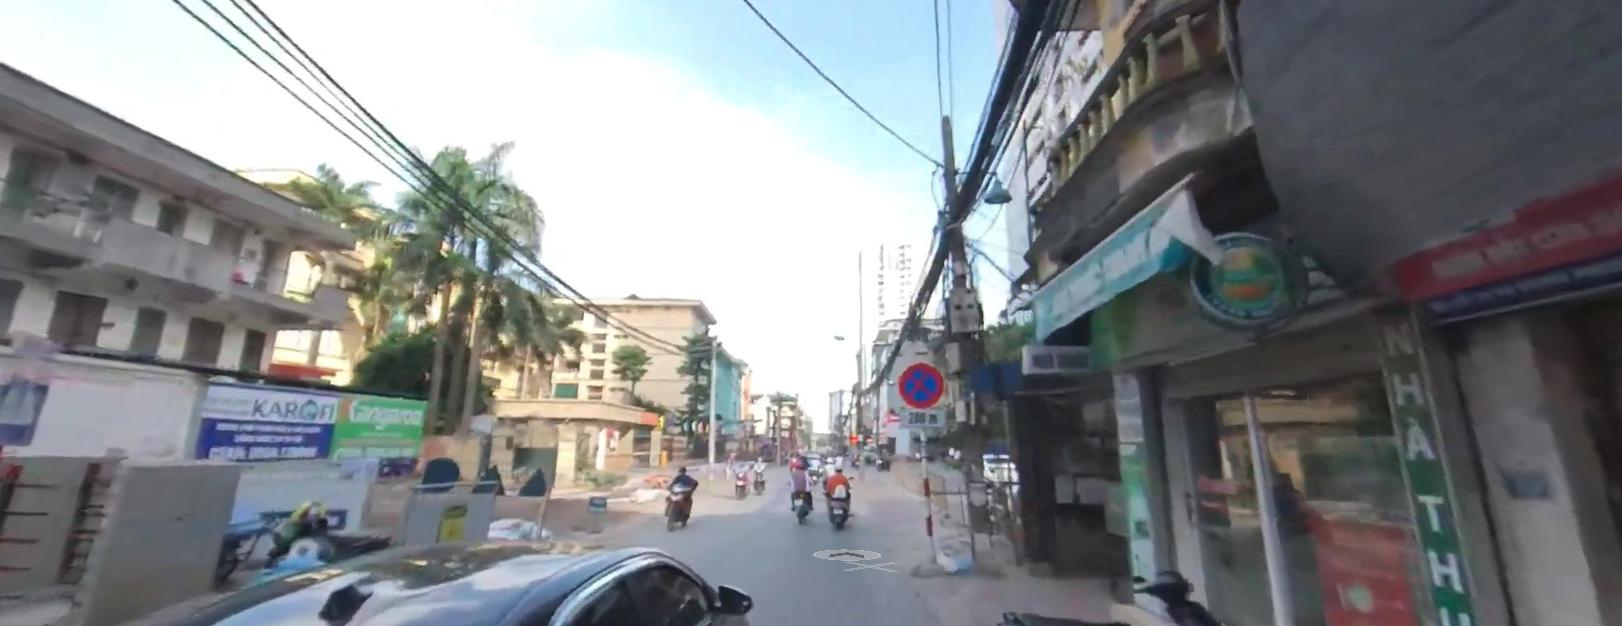Cam dung va do: (893, 360, 942, 409)
